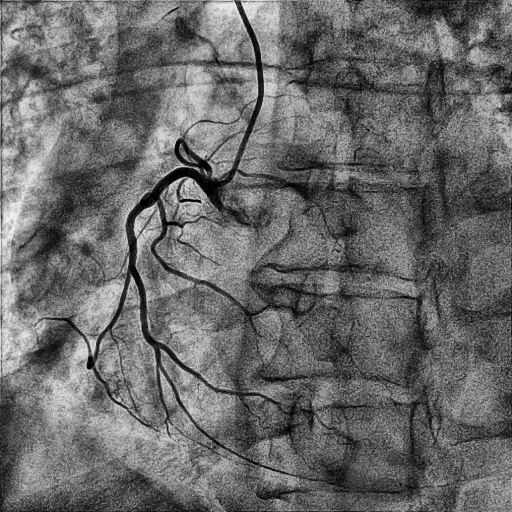rca: (126, 167, 224, 348)
